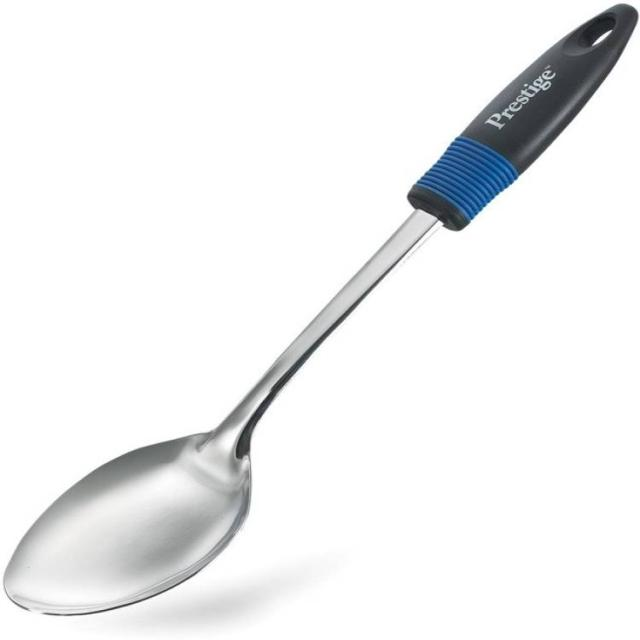spoon: (0, 0, 640, 633)
